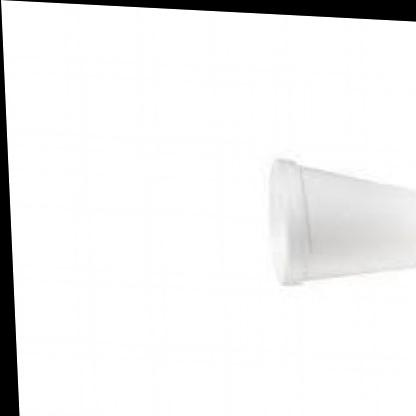trash: (270, 159, 415, 283)
